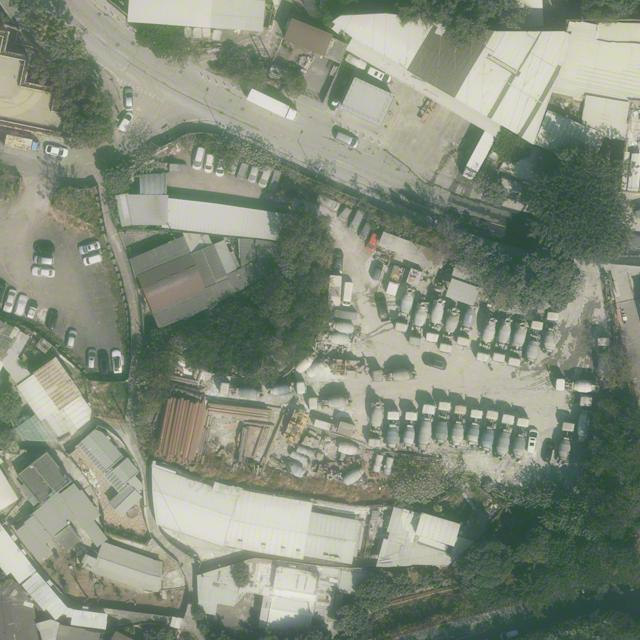SolarPanel: (78, 442, 105, 472), (106, 472, 128, 493)
